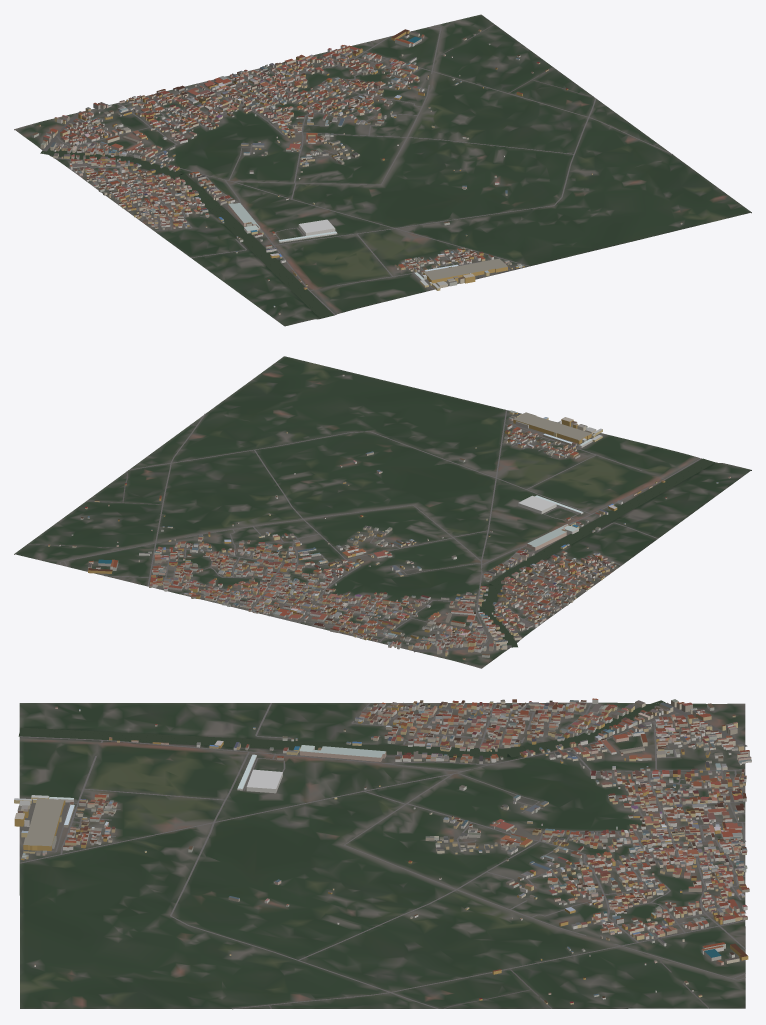
3 views of the same model, one above another, from view 1: azimuth 30°, elevation 25°; view 2: azimuth 150°, elevation 25°; view 3: azimuth 270°, elevation 25° (orthographic). The views are drawn at different scales.
Parts seen in each view (by area): view 1: ground, buildings, roads, water; view 2: ground, buildings, roads, water; view 3: ground, buildings, roads, water.
Part boxes in pixels (x1,y1,x2,y2): ground: [14, 14, 751, 326]; buildings: [31, 29, 682, 314]; roads: [42, 24, 672, 314]; water: [40, 148, 333, 318]; ground: [14, 356, 751, 668]; buildings: [48, 374, 730, 659]; roads: [27, 410, 701, 652]; water: [479, 458, 715, 647]; ground: [19, 702, 745, 1008]; buildings: [14, 698, 751, 1004]; roads: [19, 702, 747, 1009]; water: [18, 700, 665, 757].
Size of the model in its own units: 1417 by 22.51 by 1426.
